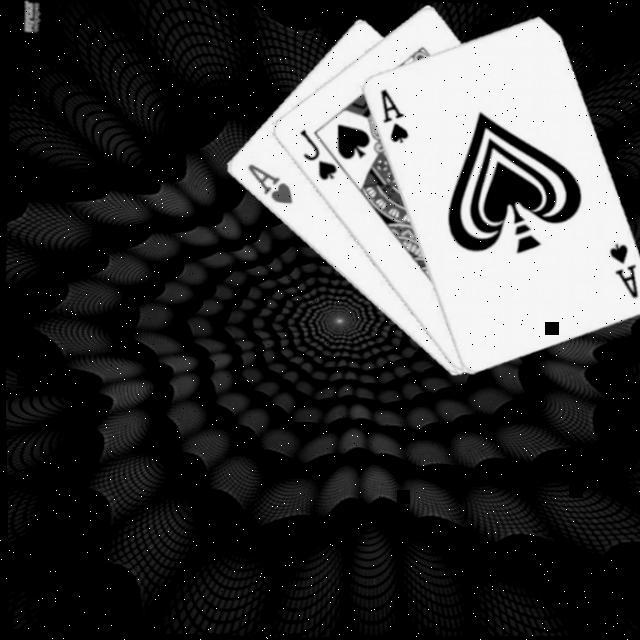AH: (240, 161, 294, 209)
AS: (600, 240, 640, 304), (372, 86, 412, 147)
JS: (292, 126, 340, 184)
